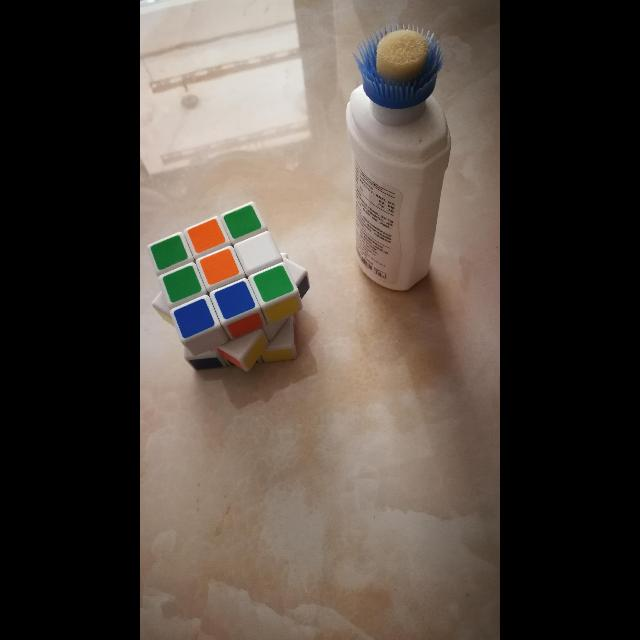plastic_box: (146, 200, 310, 372), (346, 24, 452, 290)
